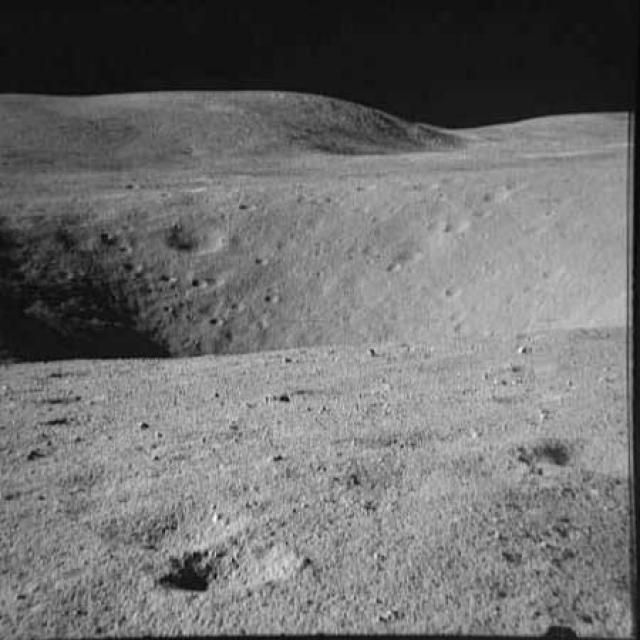crater: (142, 535, 325, 611), (87, 490, 258, 556), (511, 427, 633, 487), (484, 388, 570, 414), (162, 222, 228, 255), (36, 406, 108, 432), (40, 365, 104, 386), (44, 392, 100, 412), (439, 212, 474, 240), (403, 178, 445, 195), (396, 243, 429, 264), (258, 287, 285, 310), (483, 183, 508, 205), (118, 258, 150, 275), (97, 233, 126, 248), (188, 274, 212, 292), (351, 202, 371, 222), (204, 311, 224, 331), (227, 298, 246, 318), (236, 199, 262, 212), (159, 270, 179, 286), (223, 326, 240, 344), (252, 256, 274, 266)
rock: (262, 386, 300, 412), (133, 415, 152, 438), (509, 341, 535, 356), (360, 341, 384, 357)
